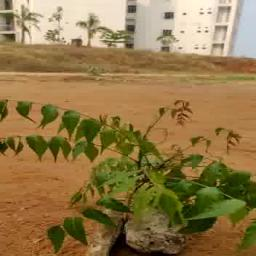Azadiractha Indica: (6, 102, 248, 222)
